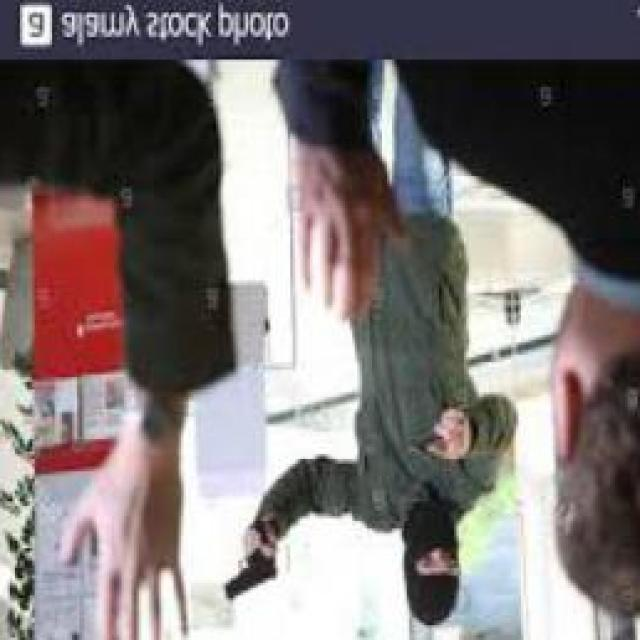pistol: (223, 524, 283, 600)
